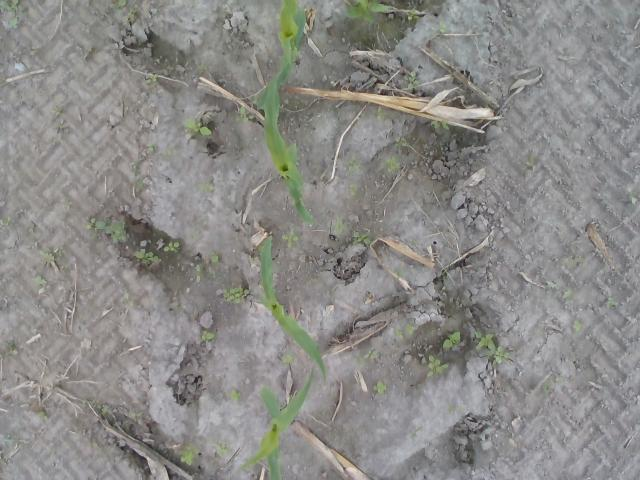Maize: (250, 234, 328, 386), (255, 63, 323, 228), (242, 365, 313, 480), (278, 0, 308, 61)
Weeds: (473, 326, 513, 366), (334, 214, 374, 248), (341, 0, 394, 24), (82, 214, 129, 241), (0, 0, 26, 32), (183, 117, 212, 144), (342, 150, 369, 176), (424, 350, 448, 378), (352, 348, 384, 368), (40, 246, 64, 271), (440, 328, 464, 352), (192, 264, 218, 286), (282, 224, 304, 250), (132, 248, 162, 265), (178, 442, 198, 466), (223, 286, 249, 304), (393, 318, 417, 337), (79, 399, 107, 415), (403, 69, 421, 89), (383, 156, 402, 174), (128, 174, 146, 192), (348, 180, 364, 200), (370, 379, 388, 396), (213, 441, 230, 458), (209, 248, 225, 266), (238, 107, 256, 123), (562, 255, 584, 268), (192, 64, 210, 78), (200, 329, 218, 343), (32, 273, 50, 287), (407, 424, 422, 440), (198, 180, 216, 193), (163, 240, 180, 253), (434, 20, 449, 34), (126, 5, 138, 22), (279, 352, 296, 364), (158, 149, 176, 160), (144, 72, 158, 86), (228, 387, 242, 401), (406, 7, 420, 21), (393, 135, 408, 148), (431, 119, 448, 130), (375, 104, 385, 122), (126, 288, 136, 305), (0, 215, 15, 226), (393, 268, 406, 280), (36, 410, 50, 421), (49, 104, 64, 114), (110, 0, 128, 8), (572, 320, 583, 333), (608, 296, 618, 310), (0, 436, 17, 444), (544, 280, 560, 288), (62, 199, 74, 209), (524, 159, 536, 169), (127, 410, 144, 417), (127, 160, 138, 170), (146, 143, 156, 154), (542, 382, 552, 392), (562, 288, 570, 298), (266, 230, 274, 240), (383, 254, 393, 262), (8, 343, 16, 353)
